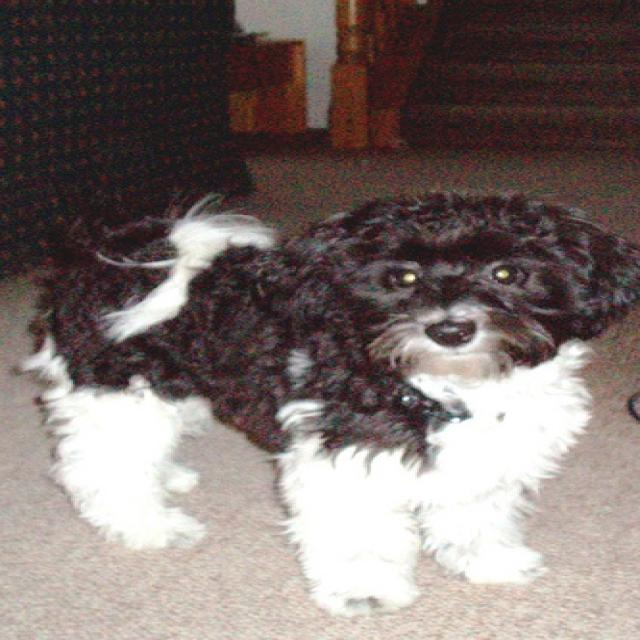dog-havanese: (13, 188, 636, 625)
